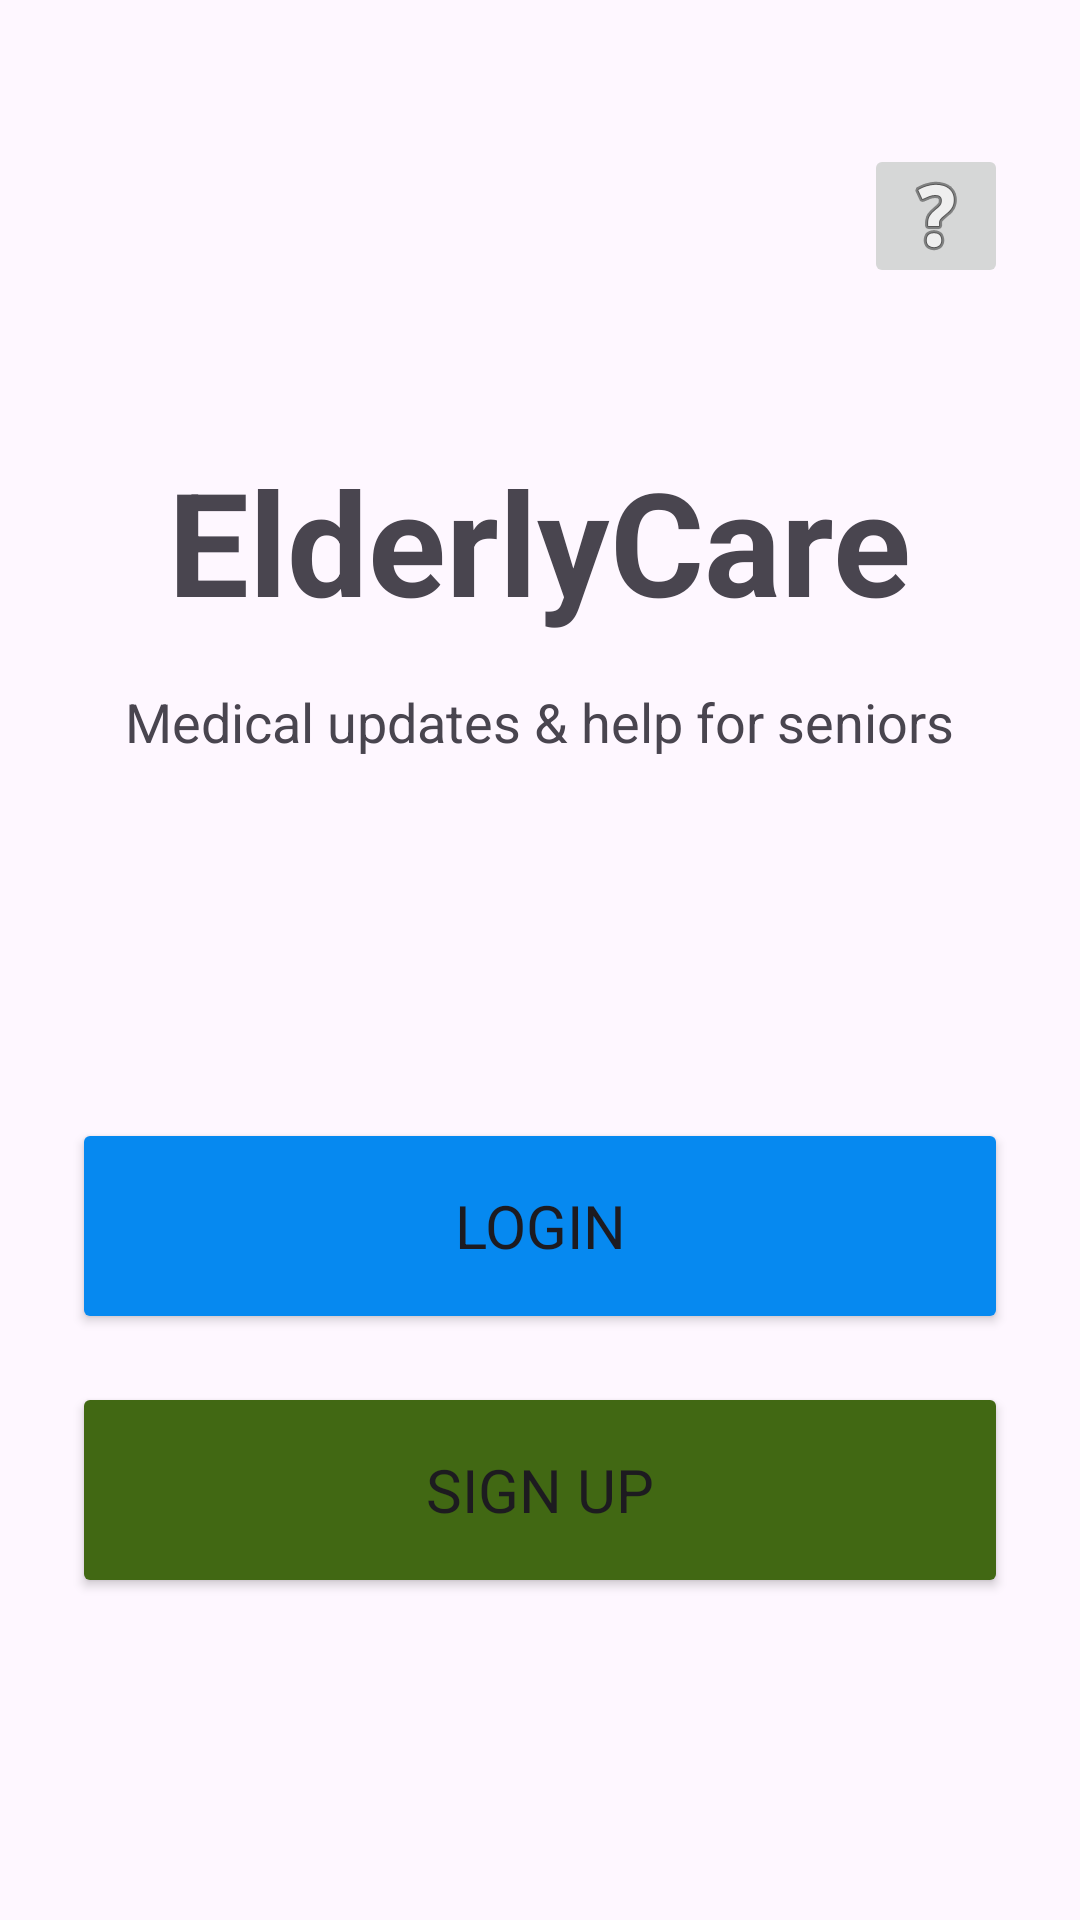

Named icons in this screenshot (1080w x 1920h) and their bounding boxes, (x1, y1, x2, y2):
Help: (876, 162, 996, 270)
